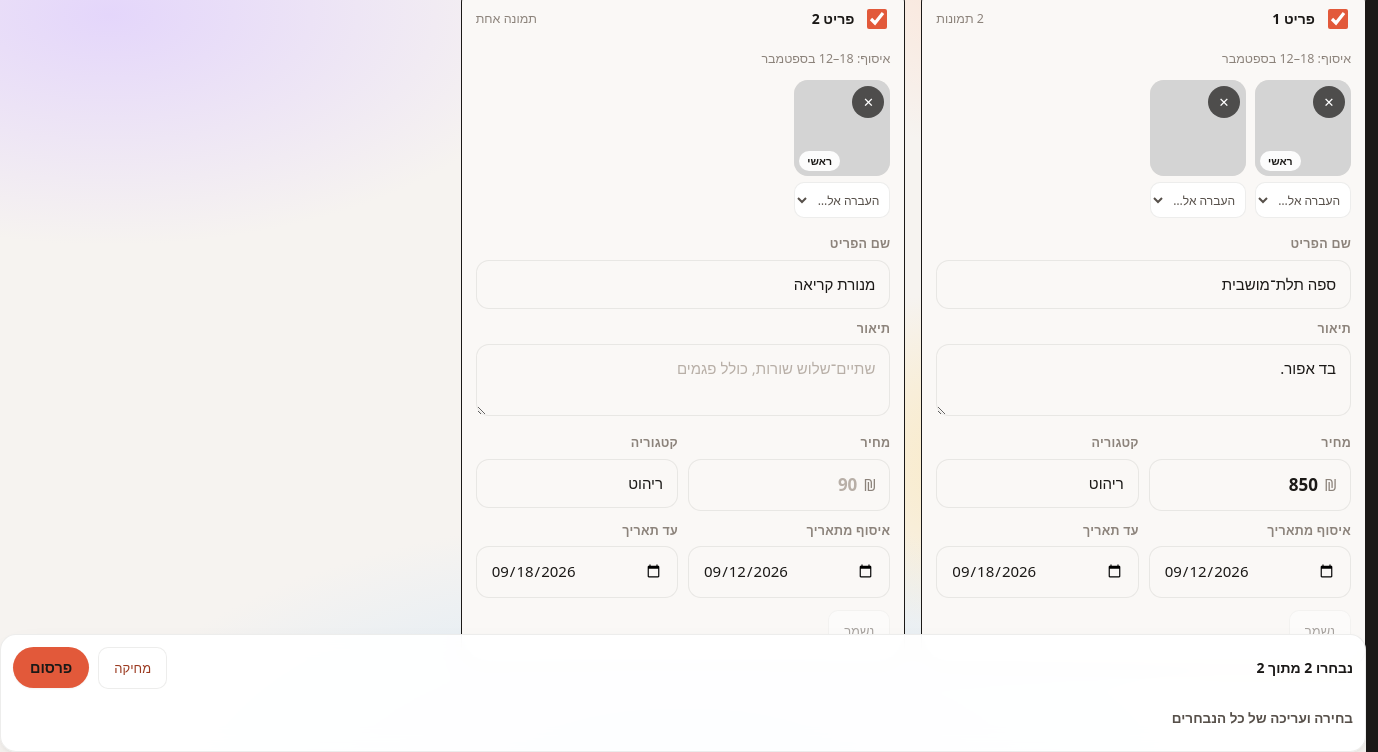
Test: the import review screen › does not publish an item whose own save was refused
Clear the field labelled "שם הפריט" below "2 תמונות" at (1144, 284), box x1=936 y1=260 x2=1351 y2=309
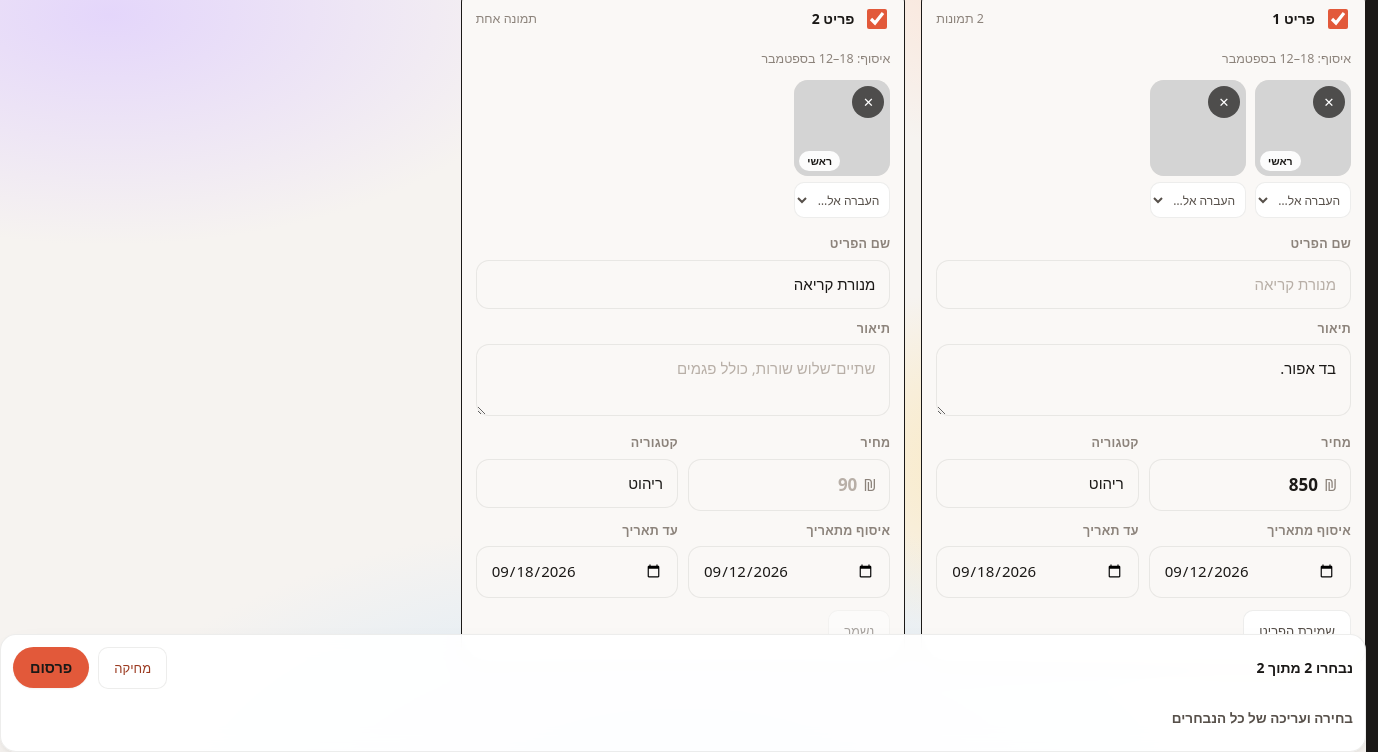
Click the button "פרסום" at (51, 668), box x1=13 y1=648 x2=89 y2=688
(page scrolled)
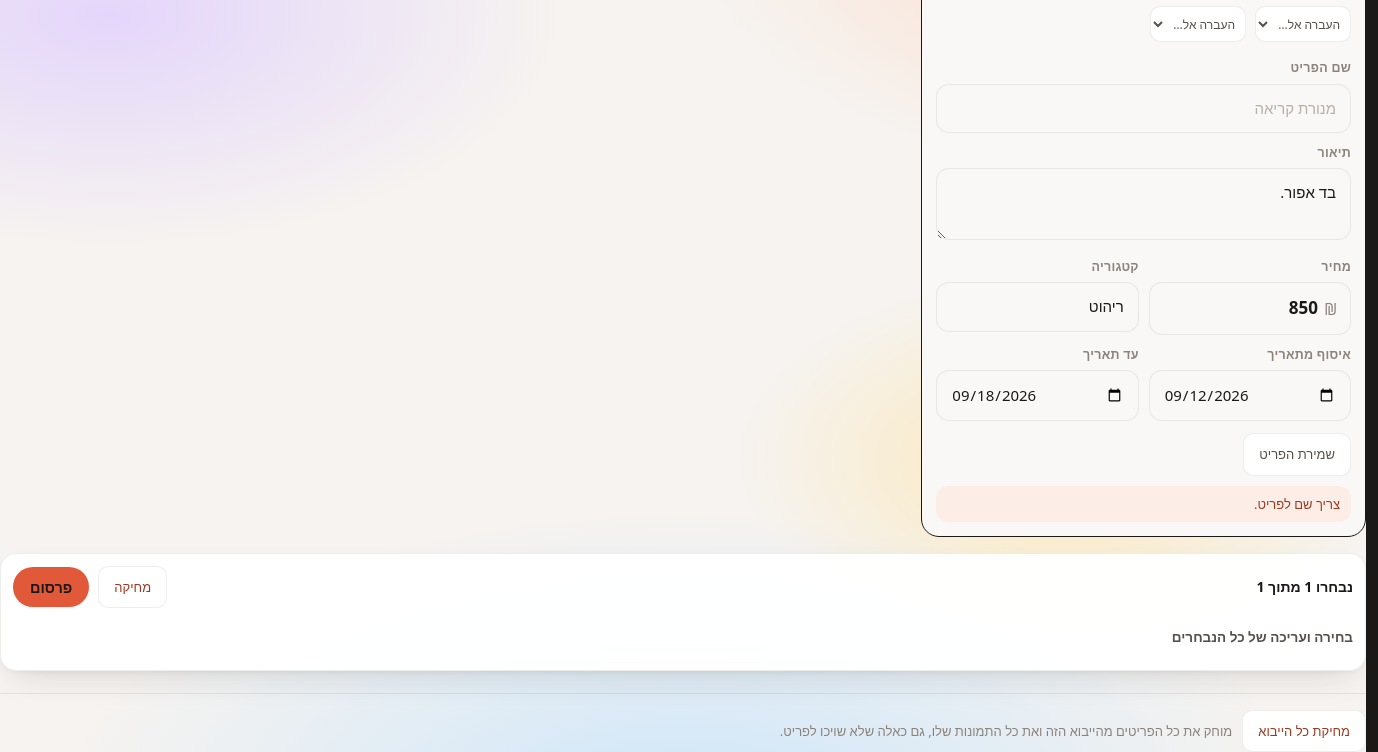
Result: the text "צריך שם לפריט." is shown at x1=936 y1=486 x2=1351 y2=522
